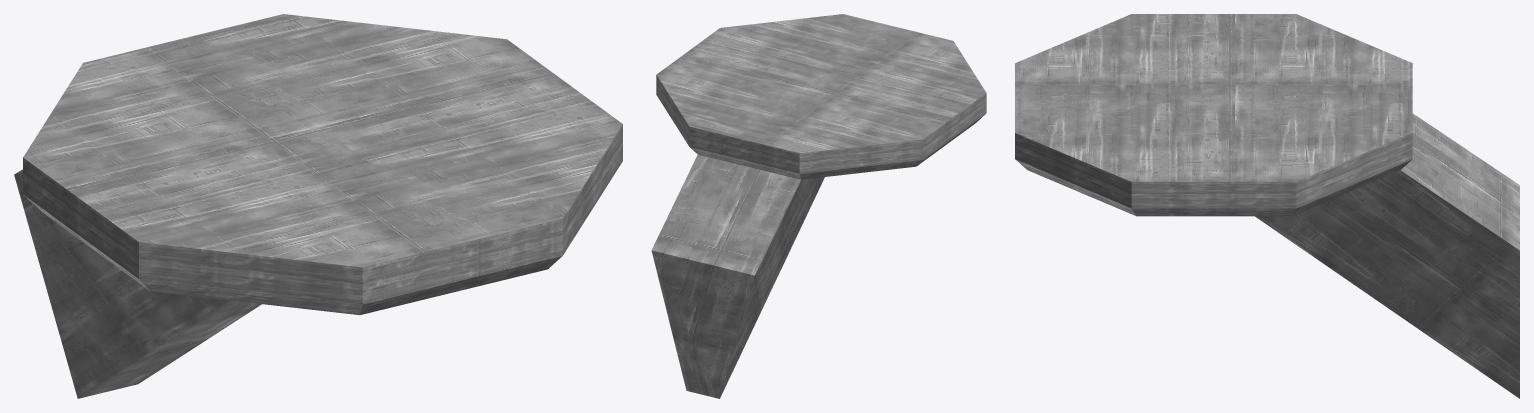
The picture shows the model from 3 angles, left to right: view 1: azimuth 30°, elevation 25°; view 2: azimuth 150°, elevation 25°; view 3: azimuth 270°, elevation 25°; orthographic projection. The views are drawn at different scales.
Parts seen in each view (by area): view 1: Base_01; view 2: Base_01; view 3: Base_01.
Part boxes in pixels (x1,y1,x2,y2): Base_01: (14,14,622,398); Base_01: (651,14,986,398); Base_01: (1015,14,1519,398).
Bounding box in the file's own units: 2730 × 2200 × 3465.
